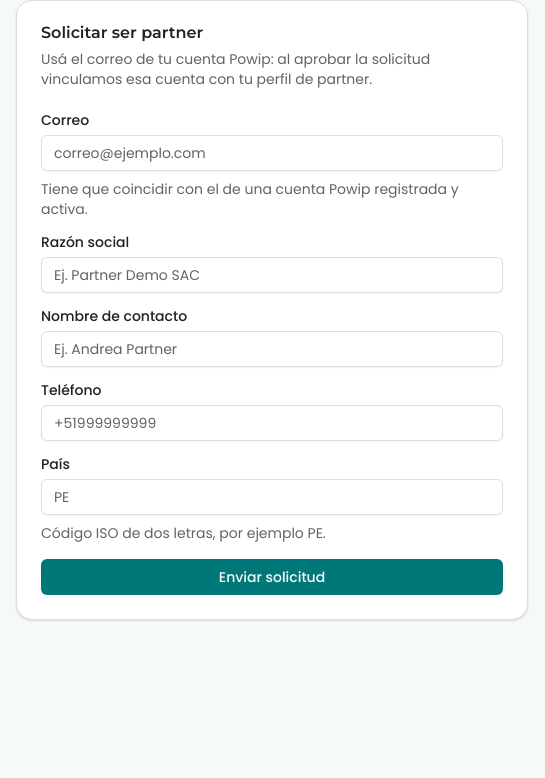
PartnerApplicationForm › valida los campos obligatorios antes de enviar
Click the button "Enviar solicitud" at (272, 577), box [41,559,503,595]
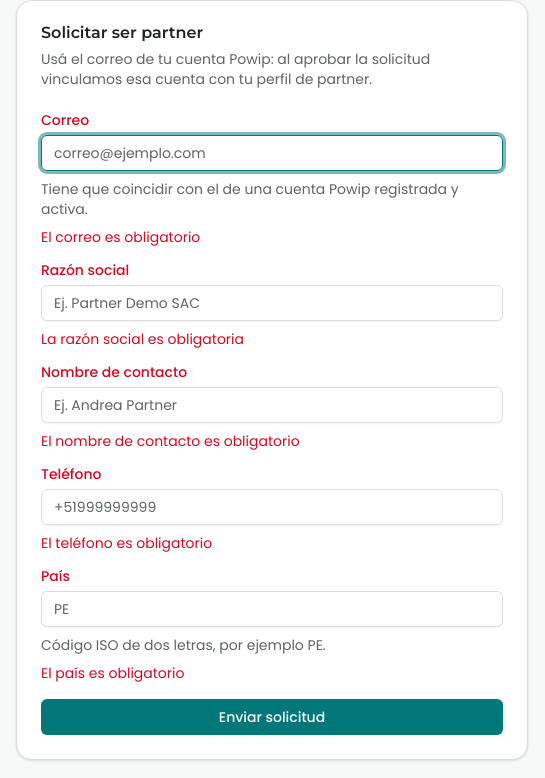
Expected: the text "El correo es obligatorio" is shown, [41,227,200,247]
Expected: the text "La razón social es obligatoria" is shown, [41,329,244,349]
Expected: the text "El nombre de contacto es obligatorio" is shown, [41,431,300,451]
